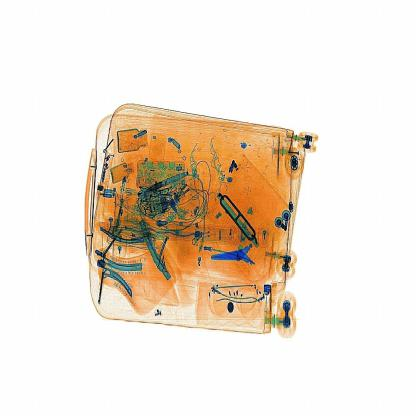gun: (204, 231, 272, 282)
